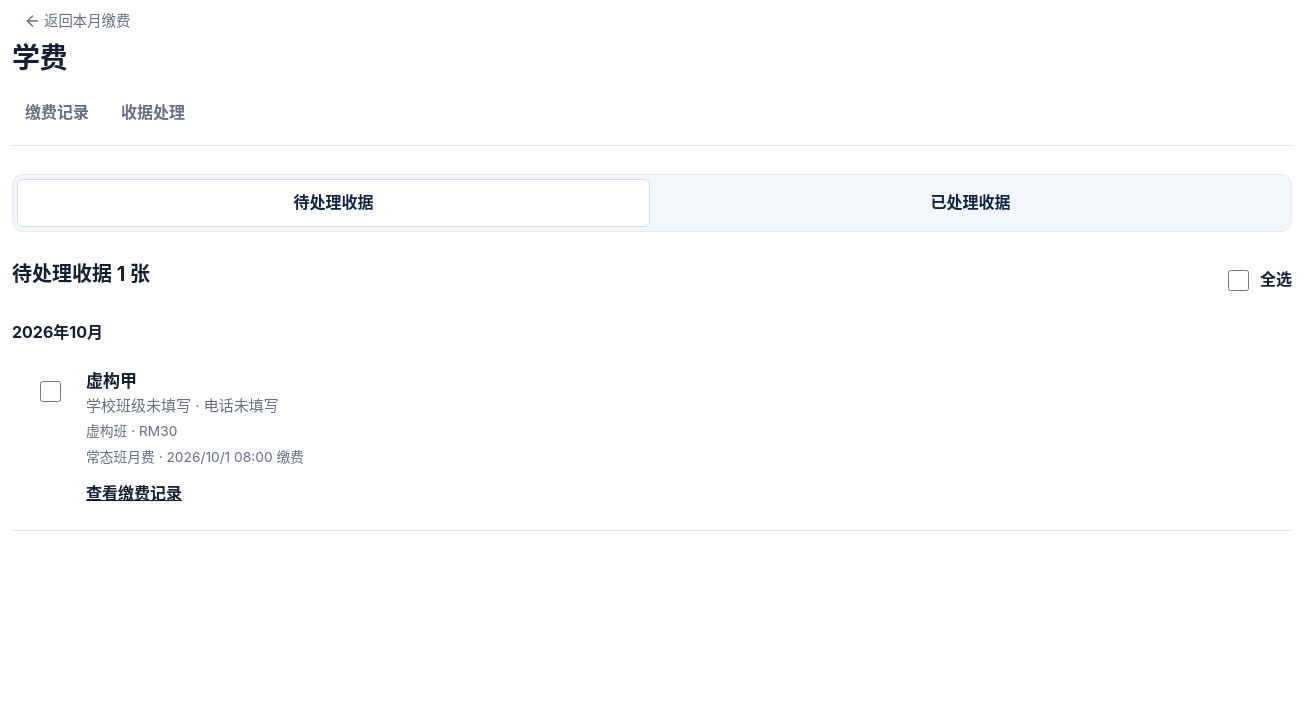
Test: restores a receipt processed in this workspace without retaining its completed animation state
The width and height of the screenshot is (1304, 720).
Click the checkbox labelled "全选": click(1238, 280) [1228,270,1249,290]
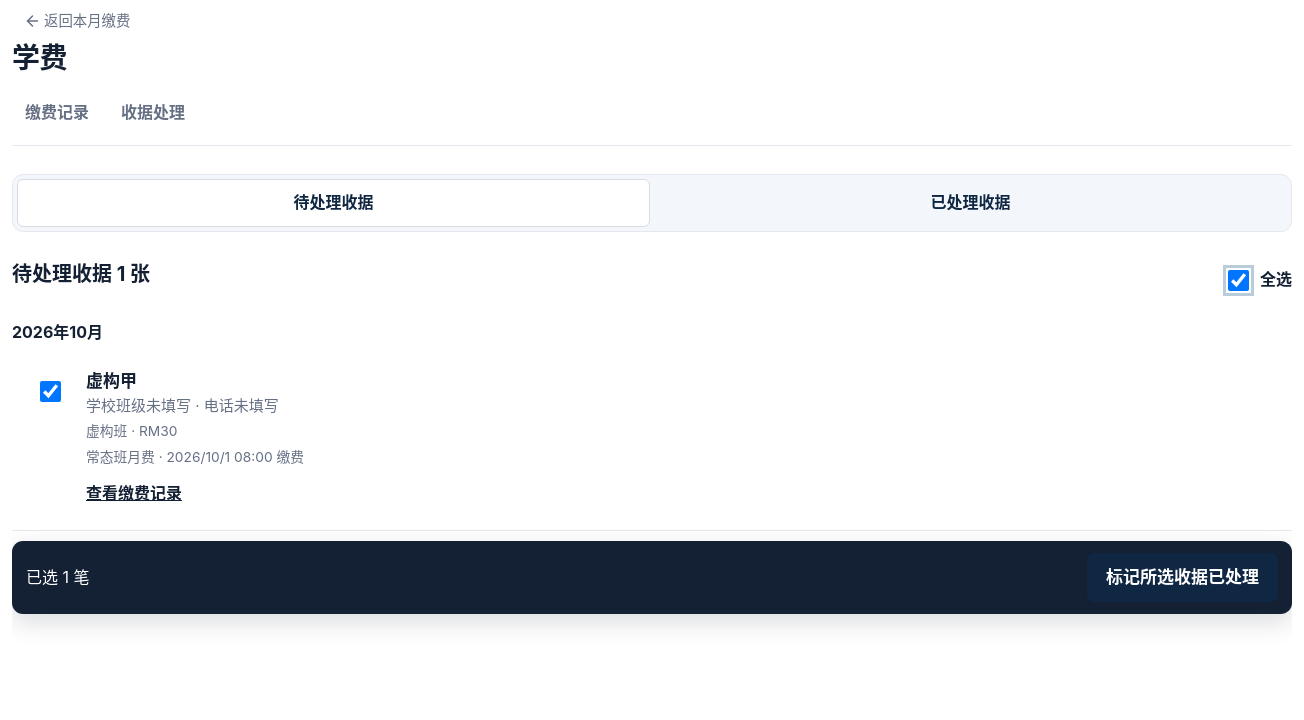
Click the button "标记所选收据已处理": click(1182, 579) [1087,555,1278,604]
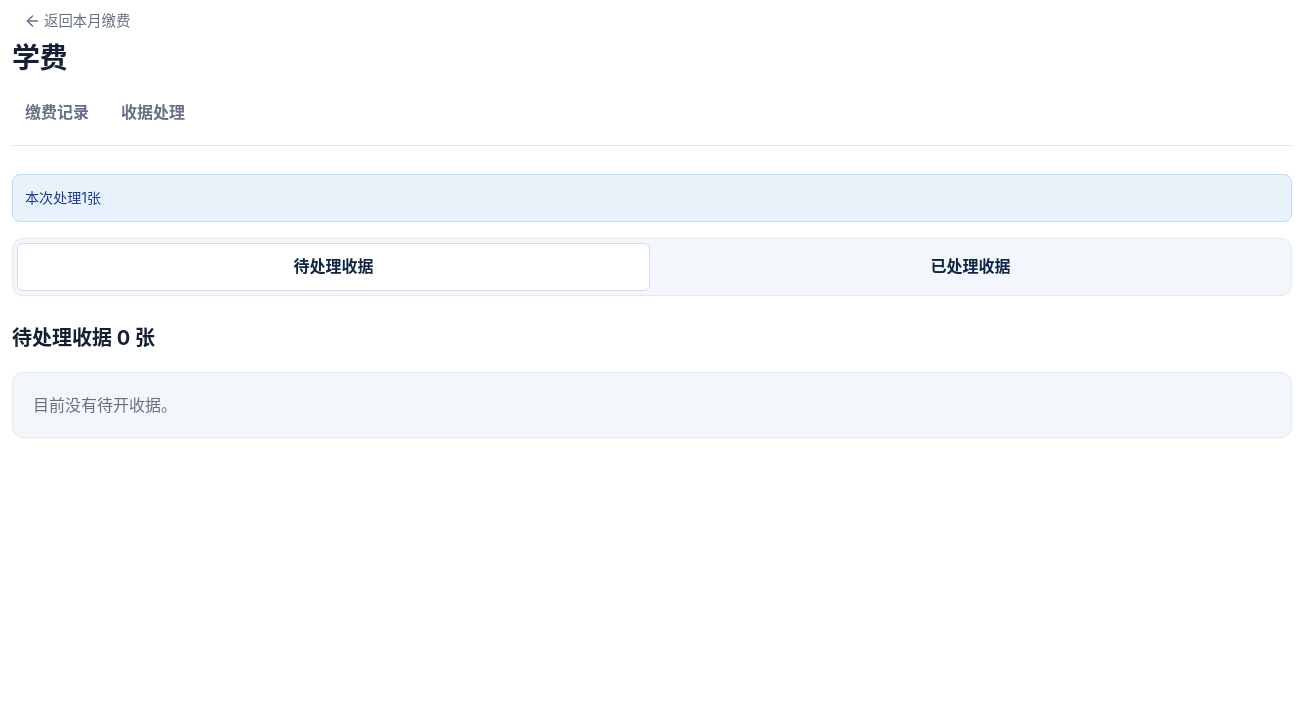
Result: the text "目前没有待开收据。" is shown at [12,372,1292,438]
Click the button "已处理收据": click(970, 267) [654,243,1287,291]
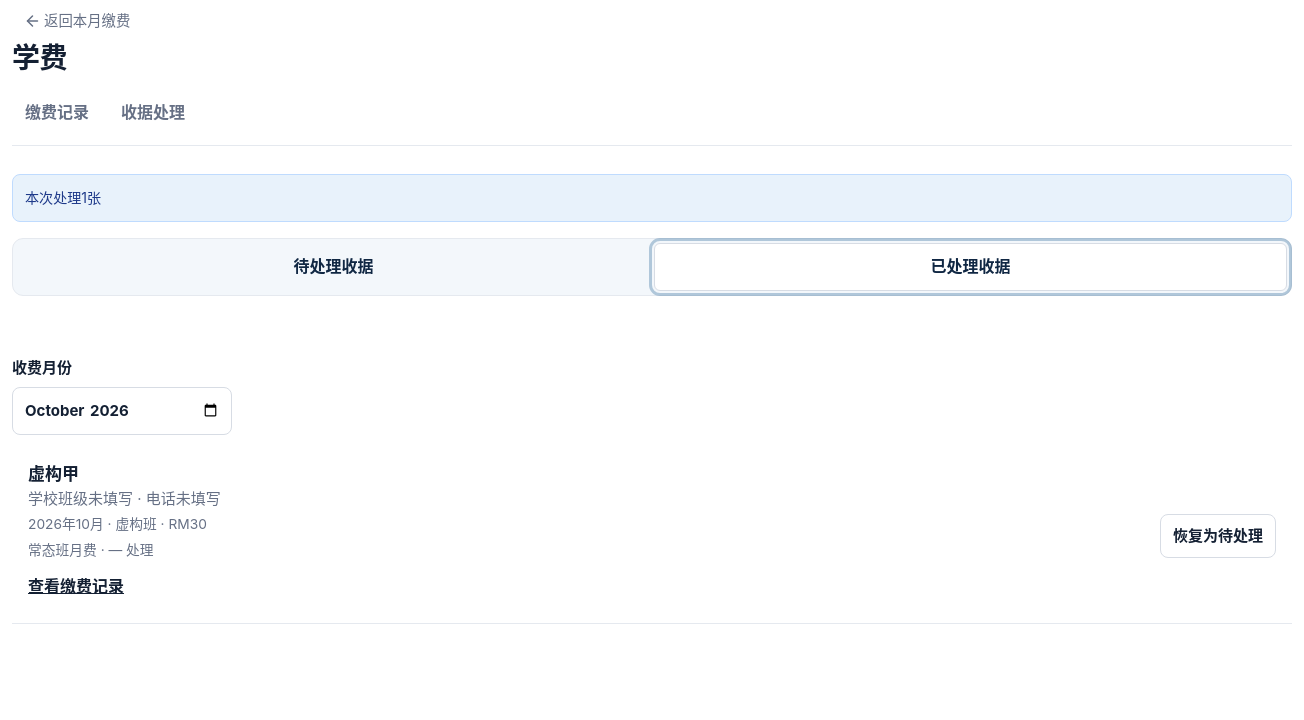
Click the button "恢复为待处理": click(1218, 536) [1160,514,1276,558]
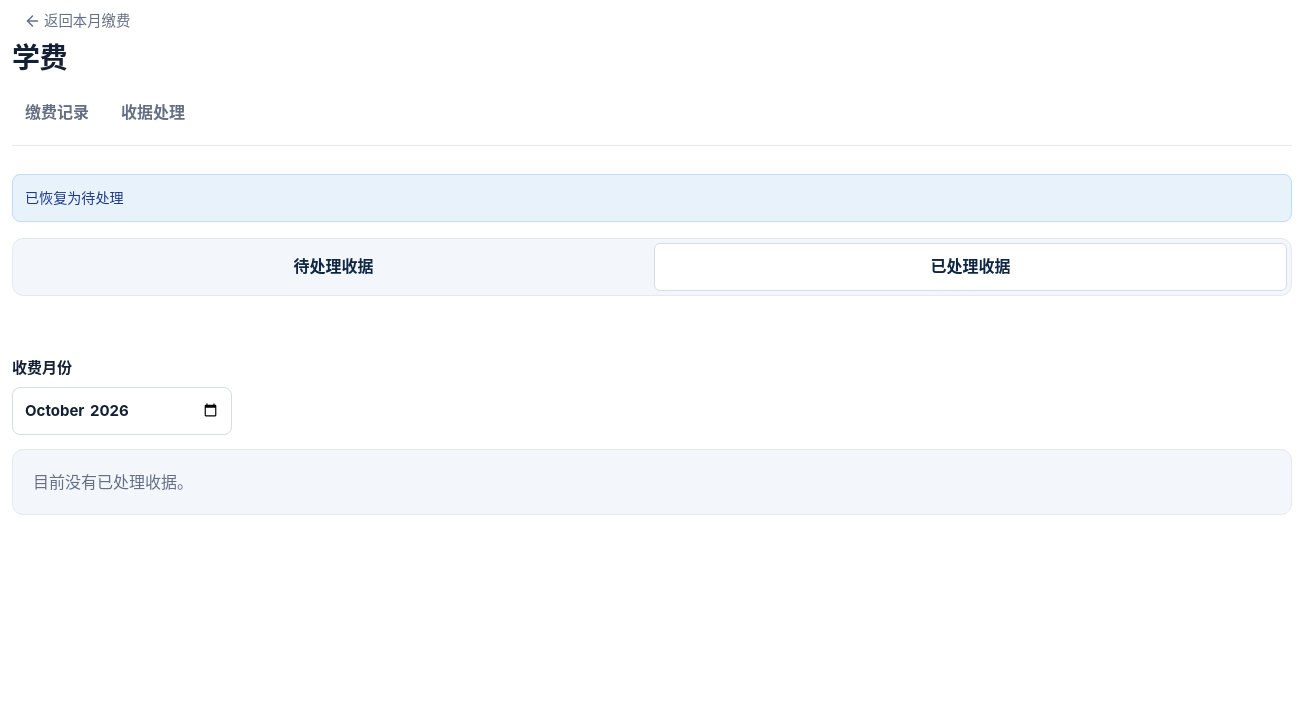
Result: the text "已恢复为待处理" is shown at [25,187,124,209]
Click the button "待处理收据": click(334, 267) [17,243,650,291]
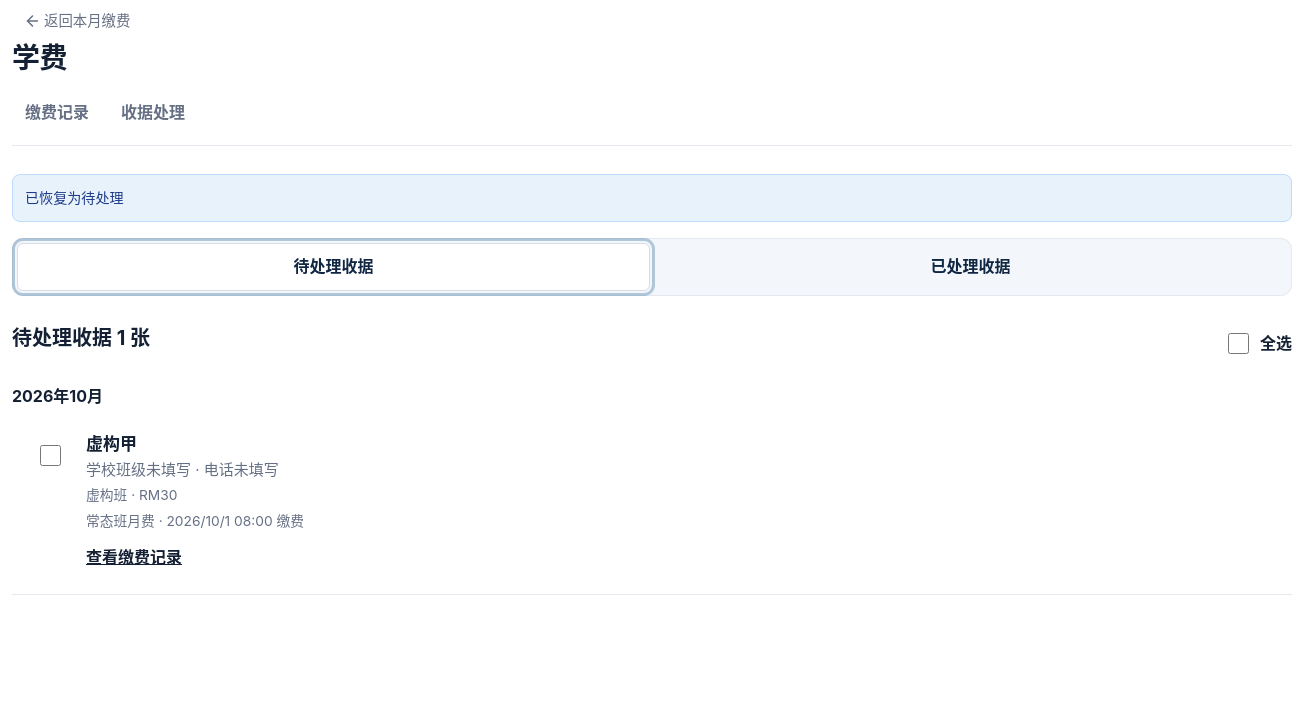
Result: the checkbox named "选择 虚构甲 虚构班 2026年10月 收据" is shown at [40,445,60,466]
